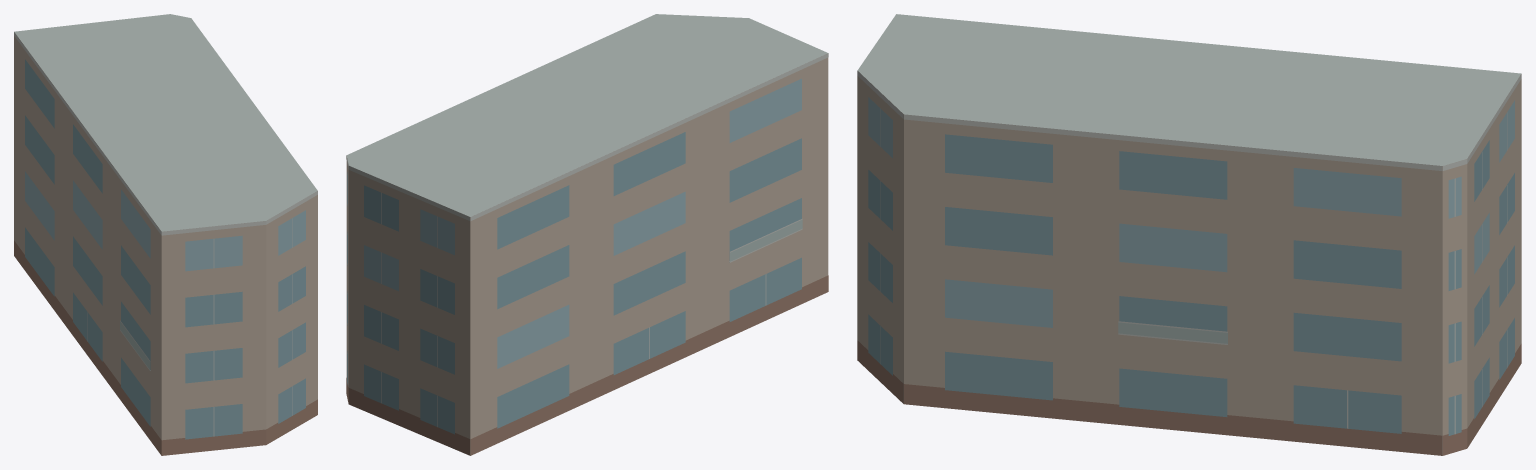
The model's file is survey-upis-32724269.glb.
3 views of the same model, side by side, from view 1: azimuth 30°, elevation 25°; view 2: azimuth 150°, elevation 25°; view 3: azimuth 270°, elevation 25° (orthographic). The views are drawn at different scales.
Visible parts, largest first — view 1: survey-upis-32724269.tmp; view 2: survey-upis-32724269.tmp; view 3: survey-upis-32724269.tmp.
Part boxes in pixels (left/top/right/bottom): survey-upis-32724269.tmp: left=14, top=14, right=317, bottom=455; survey-upis-32724269.tmp: left=346, top=14, right=828, bottom=455; survey-upis-32724269.tmp: left=857, top=14, right=1521, bottom=455.
Size of the model in its own units: 15.54 by 13.8 by 28.67.
